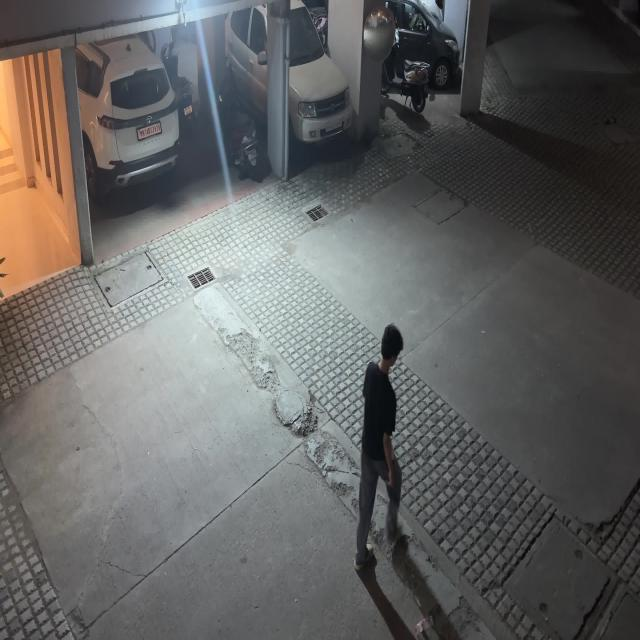human: (341, 314, 417, 570)
trash: (408, 611, 438, 635)
